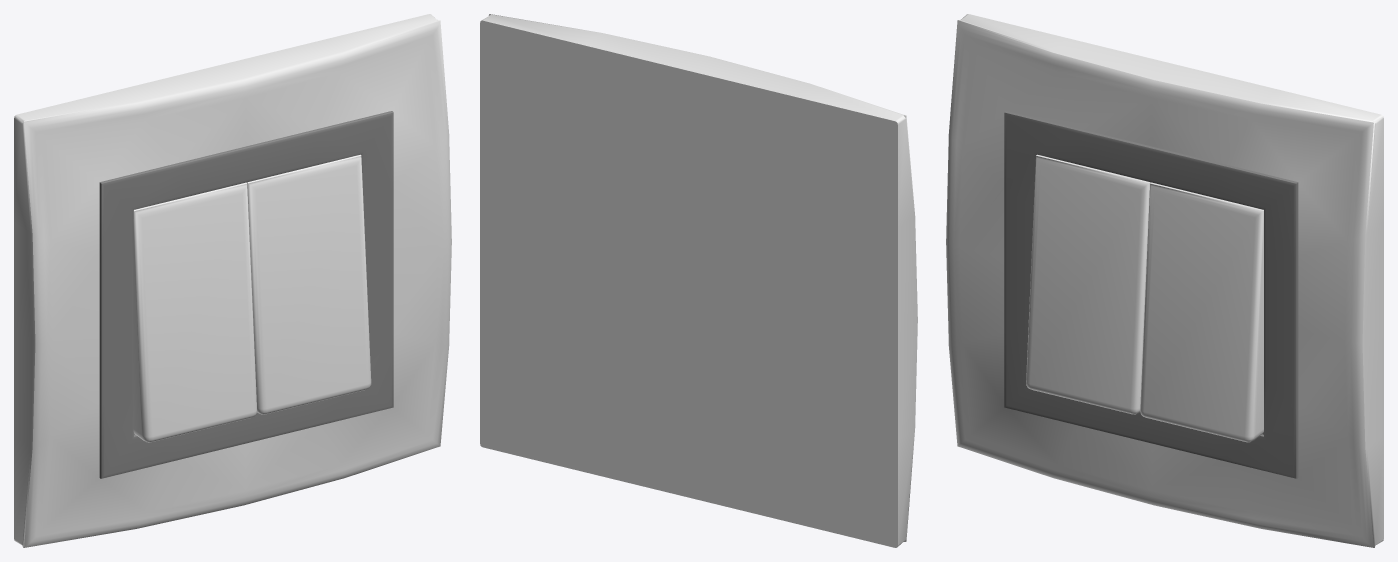
The model's file is Switcher.fbx.
The picture shows the model from 3 angles, left to right: view 1: azimuth 30°, elevation 25°; view 2: azimuth 150°, elevation 25°; view 3: azimuth 330°, elevation 25°; orthographic projection.
Visible parts, largest first — view 1: switcher; view 2: switcher; view 3: switcher.
Part boxes in pixels (x1,y1,x2,y2): switcher: [14, 14, 451, 547]; switcher: [480, 14, 917, 547]; switcher: [946, 14, 1383, 547].
Bounding box in the file's own units: 10.08 × 9.84 × 1.56.
Materials: 1 (1 with a texture image).
